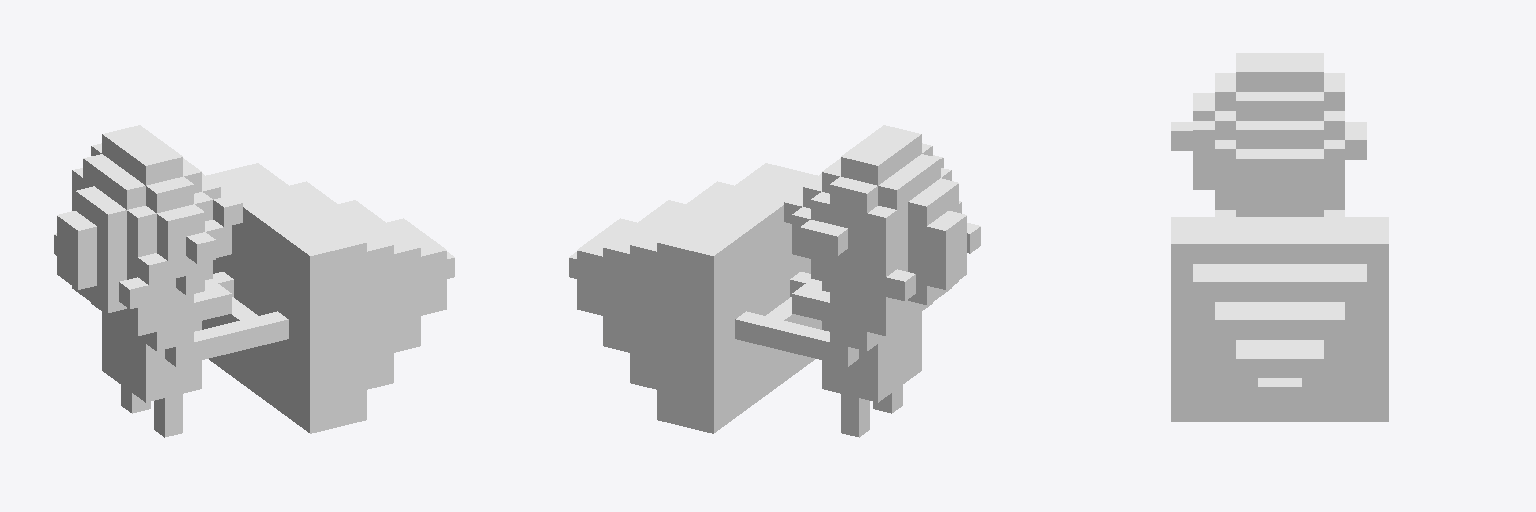
File: attacker7.obj
3 views of the same model, side by side, from view 1: azimuth 30°, elevation 25°; view 2: azimuth 150°, elevation 25°; view 3: azimuth 270°, elevation 25° (orthographic).
Visible parts, largest first — view 1: object 1; view 2: object 1; view 3: object 1.
Boxes of the visible parts, x1=… form: object 1: x1=54, y1=125, x2=454, y2=437; object 1: x1=569, y1=125, x2=980, y2=437; object 1: x1=1171, y1=53, x2=1388, y2=421.
Size of the model in its own units: 2 by 1.4 by 1.